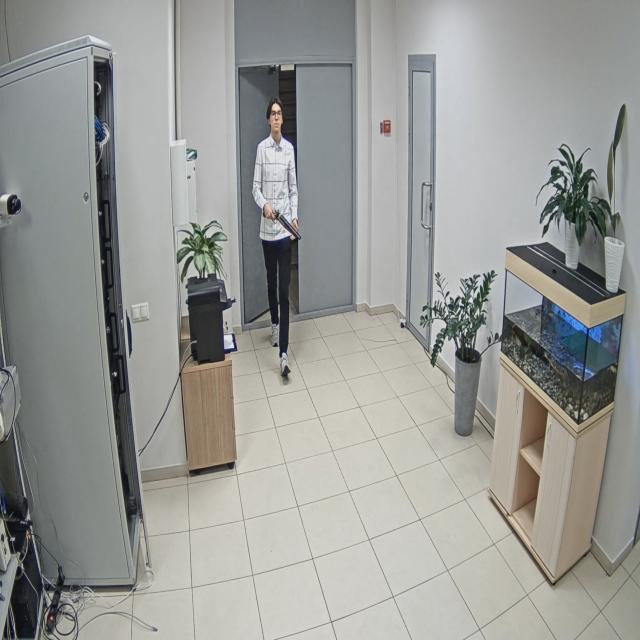-Gun: (270, 207, 301, 241), (262, 209, 266, 218)
